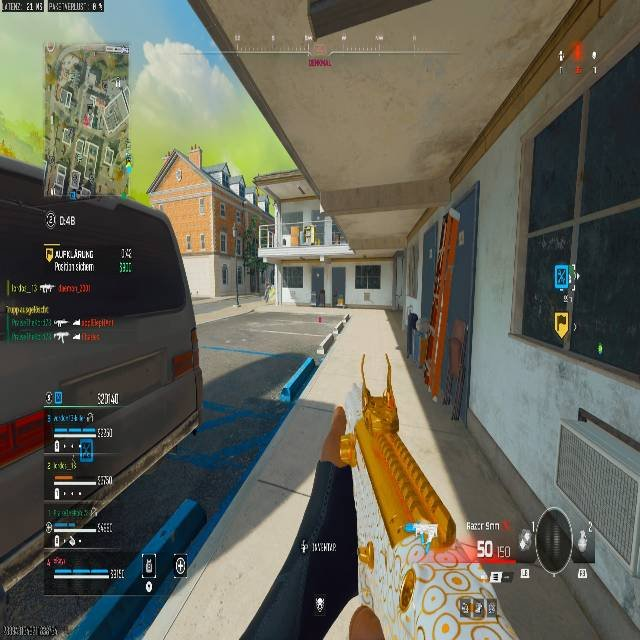player: (263, 279, 274, 303), (333, 287, 343, 306), (281, 236, 287, 246)
